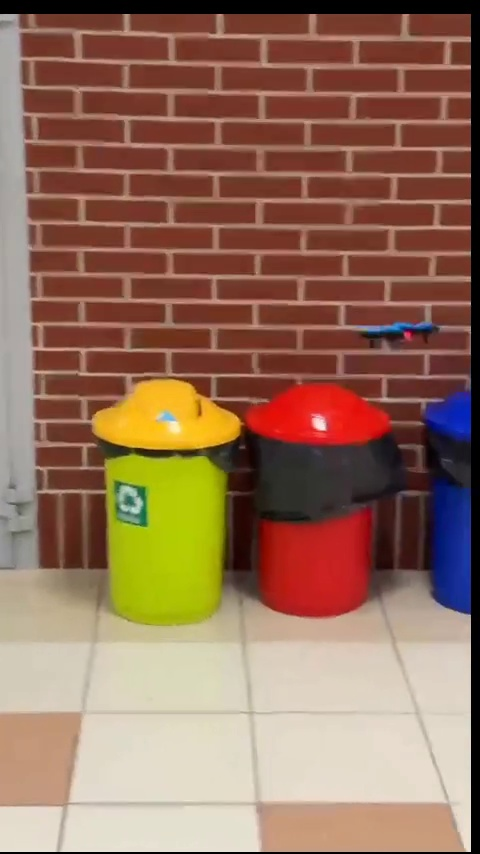drone: (365, 322, 443, 346)
